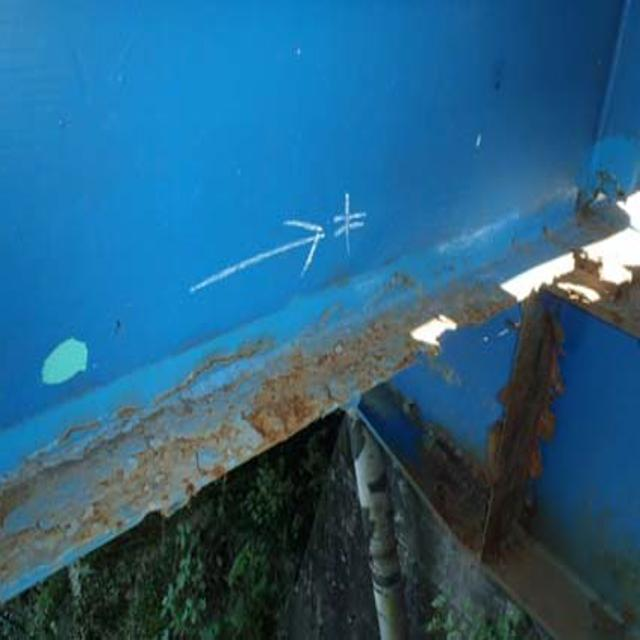corrosion: (404, 273, 559, 561)
